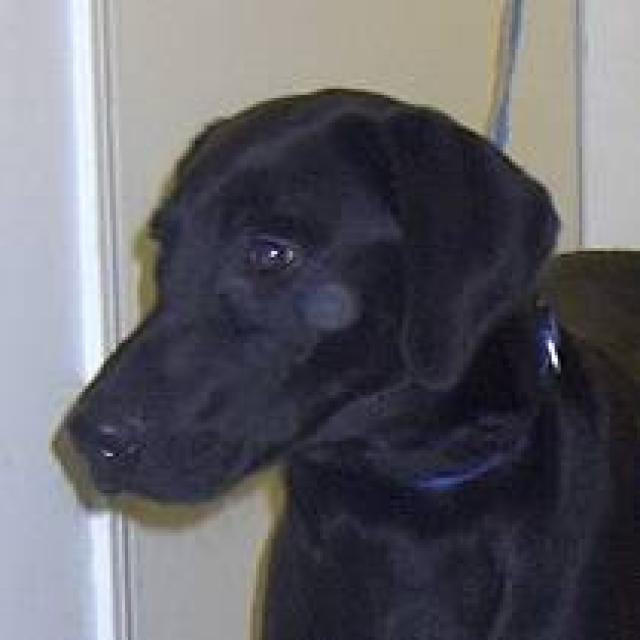dog: (49, 83, 637, 637)
